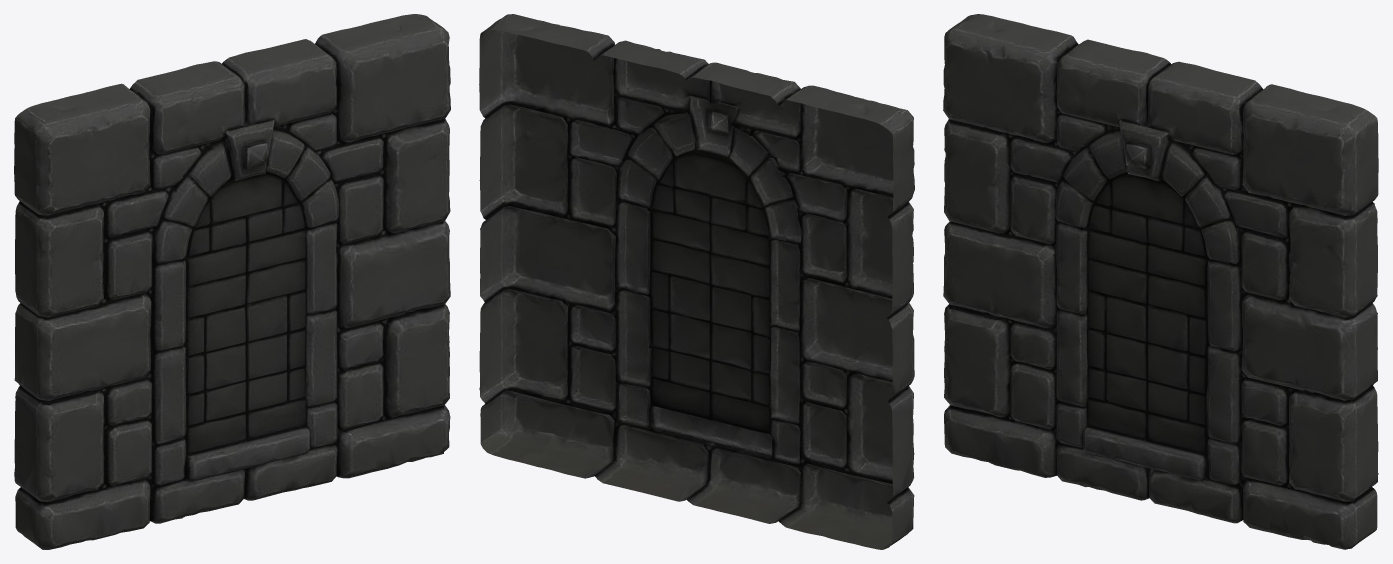
File: Wall_ArmorRecessEmpty.fbx
3 views of the same model, side by side, from view 1: azimuth 30°, elevation 25°; view 2: azimuth 150°, elevation 25°; view 3: azimuth 330°, elevation 25° (orthographic).
Parts seen in each view (by area): view 1: Wall_ArmorRecessEmpty; view 2: Wall_ArmorRecessEmpty; view 3: Wall_ArmorRecessEmpty.
Boxes of the visible parts, bbox=[...] form: Wall_ArmorRecessEmpty: bbox=[14, 14, 450, 549]; Wall_ArmorRecessEmpty: bbox=[479, 14, 914, 549]; Wall_ArmorRecessEmpty: bbox=[943, 14, 1378, 549].
Size of the model in its own units: 307 by 303 by 50.82.
